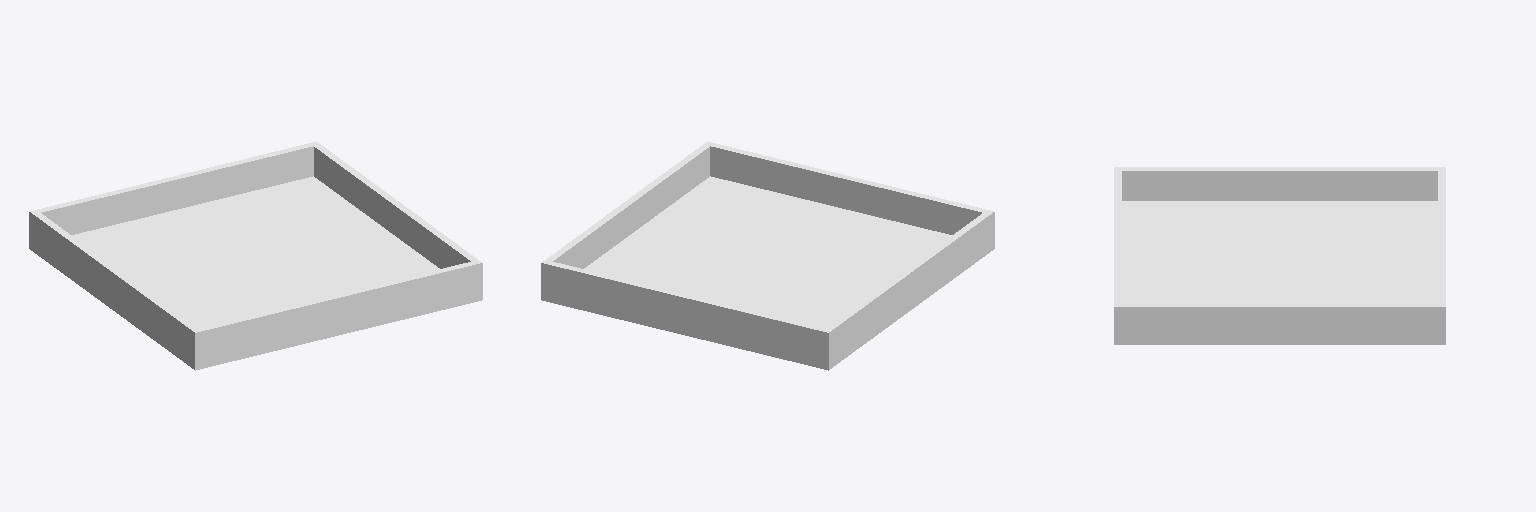
Rendered from Level.obj.
The picture shows the model from 3 angles: view 1: azimuth 30°, elevation 25°; view 2: azimuth 150°, elevation 25°; view 3: azimuth 270°, elevation 25°; orthographic projection.
Size of the model in its own units: 40 by 5 by 40.